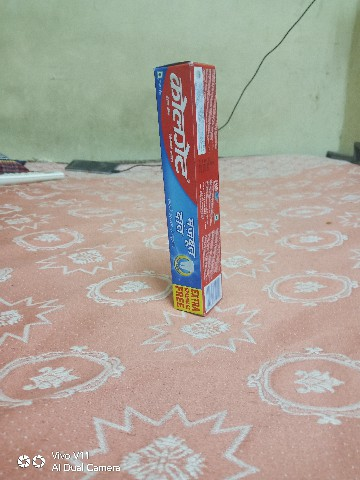colgatetoothpaste big: (143, 48, 253, 334)
